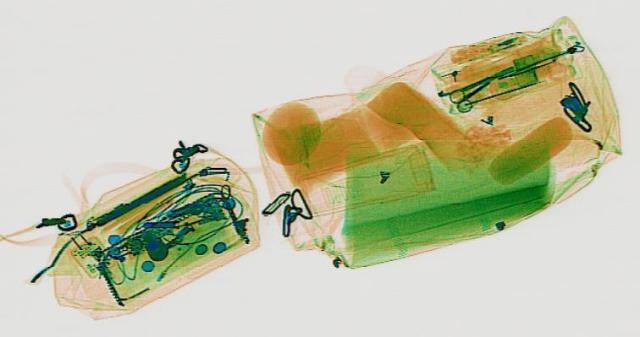Scissors: (435, 70, 513, 112)
